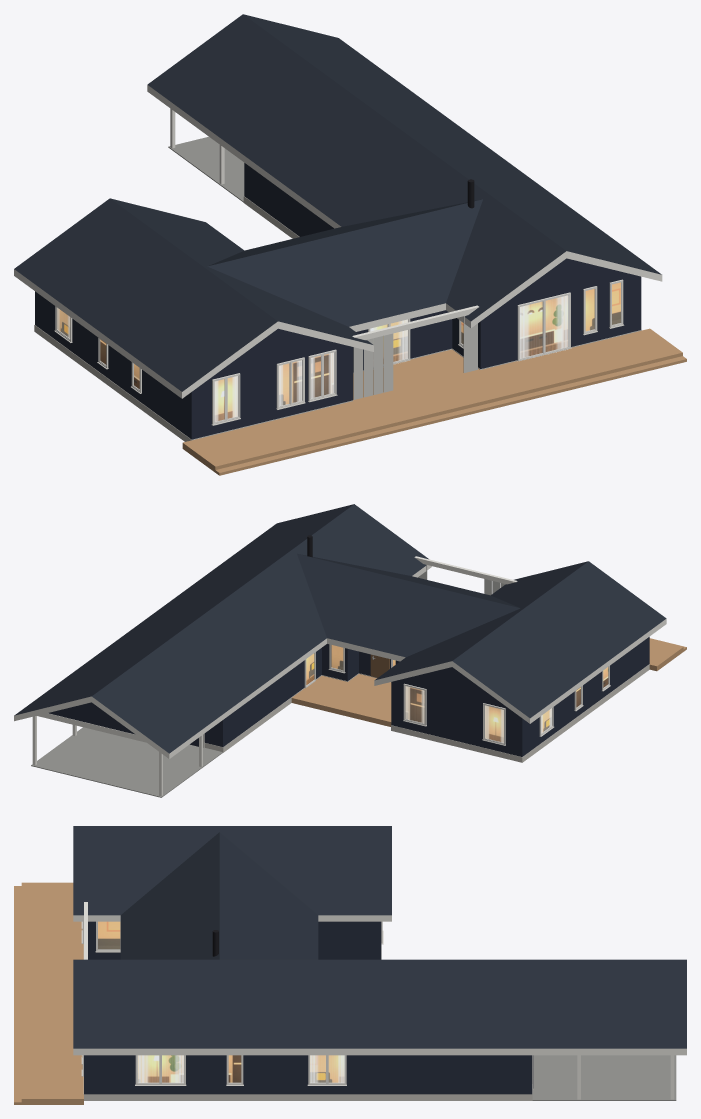
File: teder270_c1_p1_m0.glb
The picture shows the model from 3 angles, top to bottom: view 1: azimuth 30°, elevation 25°; view 2: azimuth 150°, elevation 25°; view 3: azimuth 270°, elevation 25°; orthographic projection. The views are drawn at different scales.
Visible parts, largest first — view 1: roof, wall, deck, fascia, glass, room, frame, sheer, panel, paving, plinth; view 2: roof, wall, paving, fascia, deck, plinth, room, glass, frame, sheer; view 3: roof, wall, deck, fascia, paving, plinth, glass, room, frame, sheer.
Part boxes in pixels (x1,y1,x2,y2): roof: (14, 14, 661, 391); wall: (35, 163, 641, 439); deck: (182, 328, 686, 475); fascia: (14, 85, 662, 398); glass: (57, 283, 620, 421); room: (58, 282, 620, 420); frame: (54, 279, 624, 425); sheer: (57, 295, 568, 421); panel: (353, 316, 477, 399); paving: (168, 136, 244, 202); plinth: (34, 196, 641, 441); roof: (14, 504, 666, 753); wall: (48, 637, 649, 756); paving: (31, 727, 222, 797); fascia: (14, 556, 666, 796); deck: (291, 638, 686, 726); plinth: (204, 664, 649, 762); room: (306, 645, 608, 741); glass: (307, 645, 607, 742); frame: (203, 644, 610, 747); sheer: (405, 686, 551, 742); roof: (73, 826, 686, 1048); wall: (84, 921, 532, 1094); deck: (14, 882, 83, 1104); fascia: (73, 902, 686, 1099); paving: (532, 1055, 676, 1100); plinth: (83, 944, 532, 1100); glass: (98, 922, 343, 1082); room: (98, 921, 343, 1082); frame: (81, 921, 533, 1089); sheer: (137, 1055, 344, 1082).
Size of the model in its own units: 21.93 by 5.66 by 28.07.
16 materials, 6 textured.
